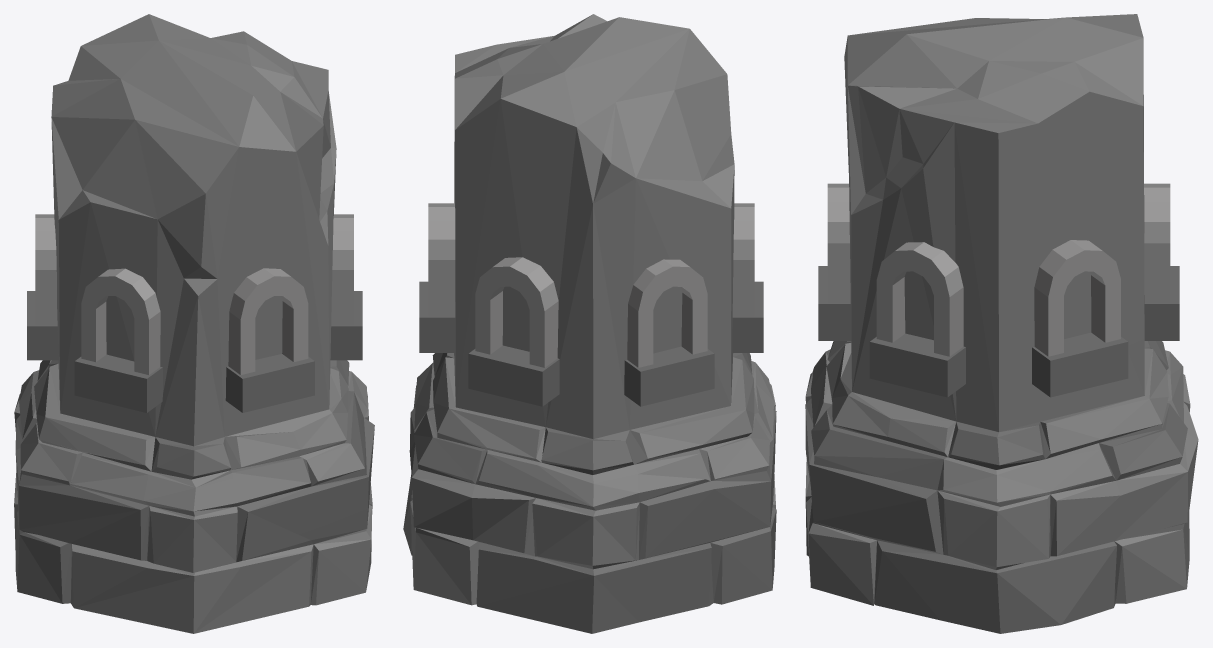
File: _ruin_6.glb
3 renders of one model, left to right at view 1: azimuth 30°, elevation 25°; view 2: azimuth 150°, elevation 25°; view 3: azimuth 270°, elevation 25°, orthographic. The views are drawn at different scales.
Parts seen in each view (by area): view 1: ruin_6; view 2: ruin_6; view 3: ruin_6.
Part boxes in pixels (box(x1,y1,x2,y2)): ruin_6: box(14, 14, 374, 633); ruin_6: box(403, 14, 776, 633); ruin_6: box(805, 14, 1198, 633).
Size of the model in its own units: 2.86 by 3.81 by 2.58.
Materials: 1 (1 with a texture image).
